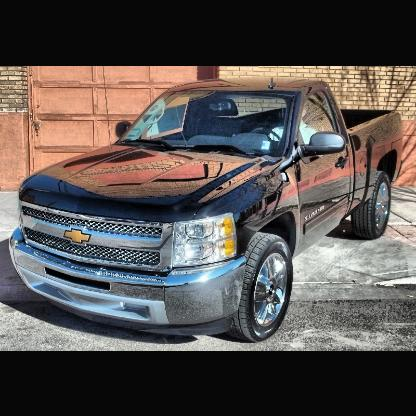Chevrolet Silverado 1500 Regular Cab 2012: (9, 78, 404, 344)
